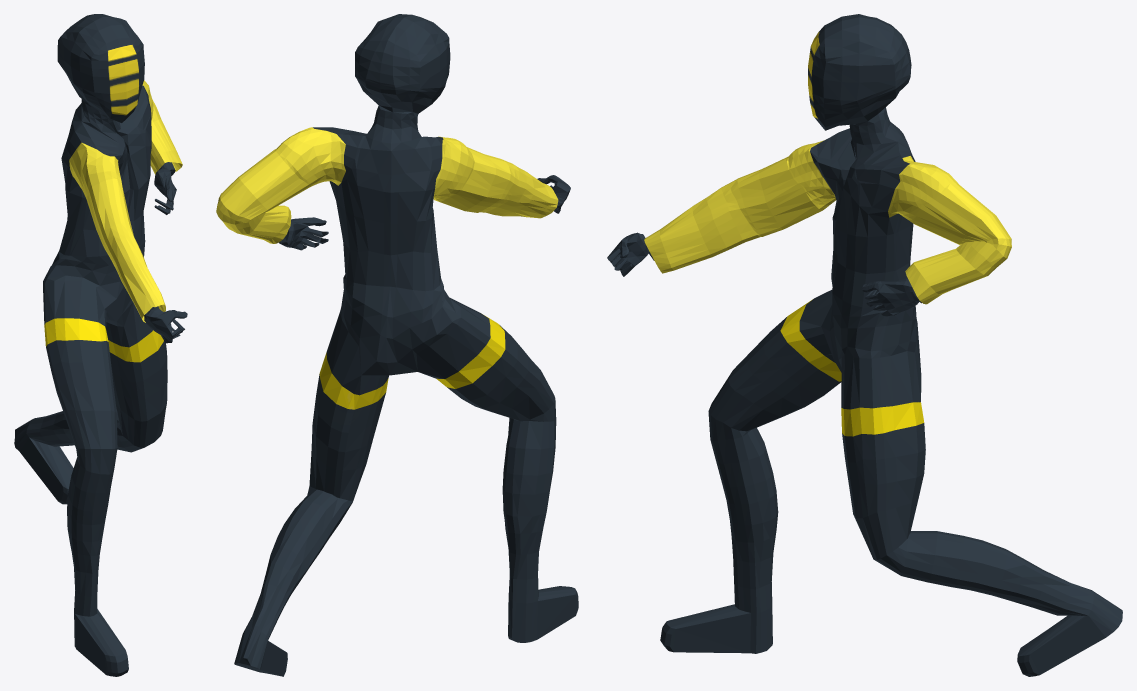
The model's file is Sentry_WL_000006.obj.
The picture shows the model from 3 angles, left to right: view 1: azimuth 30°, elevation 25°; view 2: azimuth 150°, elevation 25°; view 3: azimuth 270°, elevation 25°; orthographic projection. The views are drawn at different scales.
Visible parts, largest first — view 1: Cube; view 2: Cube; view 3: Cube.
Boxes of the visible parts, x1,y1,x2,y2 form: Cube: (14,14,187,676); Cube: (216,14,578,676); Cube: (607,14,1122,676).
Size of the model in its own units: 1.24 by 3.61 by 2.53.
